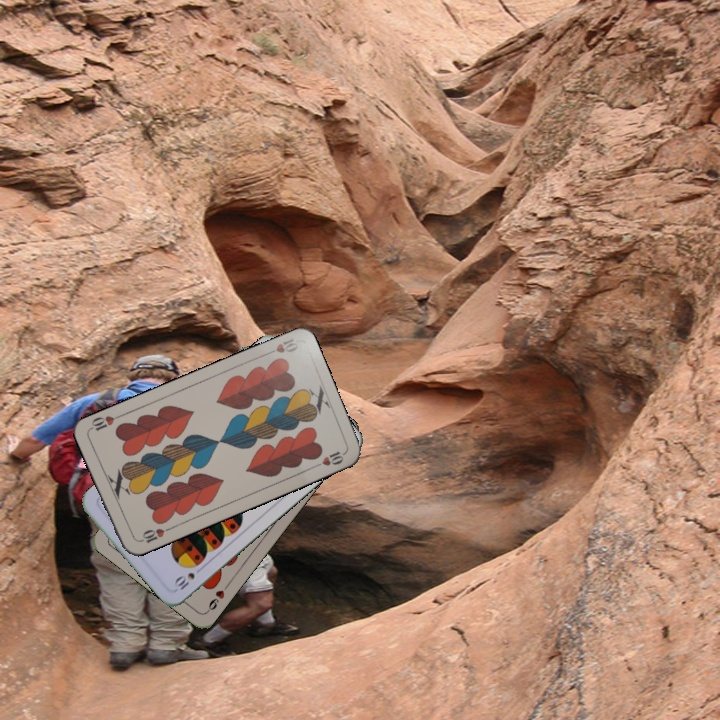H10: (260, 334, 300, 358), (135, 524, 174, 546)
H9: (202, 580, 231, 615)
S10: (170, 563, 206, 594)
